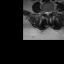CCS_normal: (47, 9, 48, 18)
LFS_normal: (50, 8, 52, 15)
LLS_normal: (48, 9, 50, 16)
RFS_normal: (43, 9, 45, 15)
RLS_normal: (45, 9, 47, 16)
